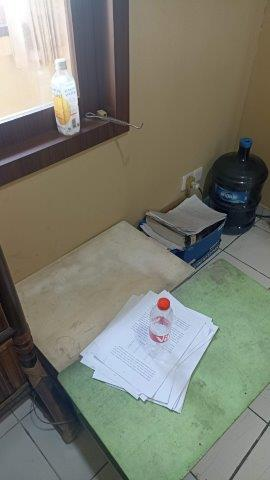botolplastik: (52, 57, 82, 139), (148, 299, 175, 358)
kertas: (76, 288, 222, 415)
